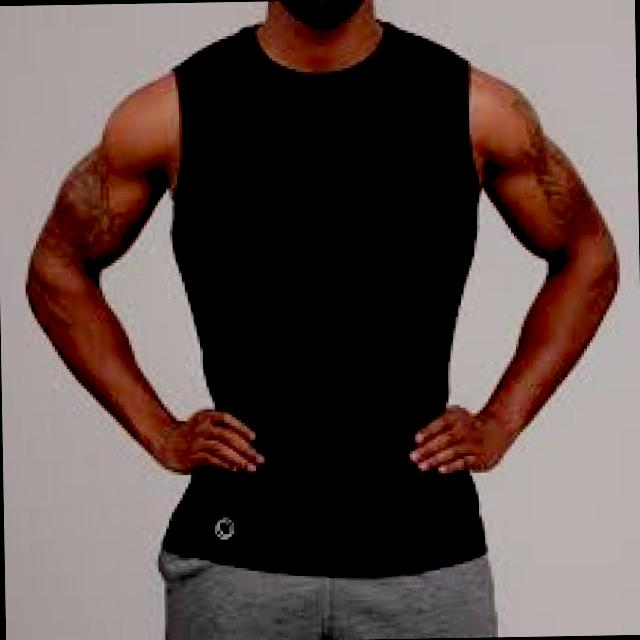no_vest: (152, 16, 487, 581)
